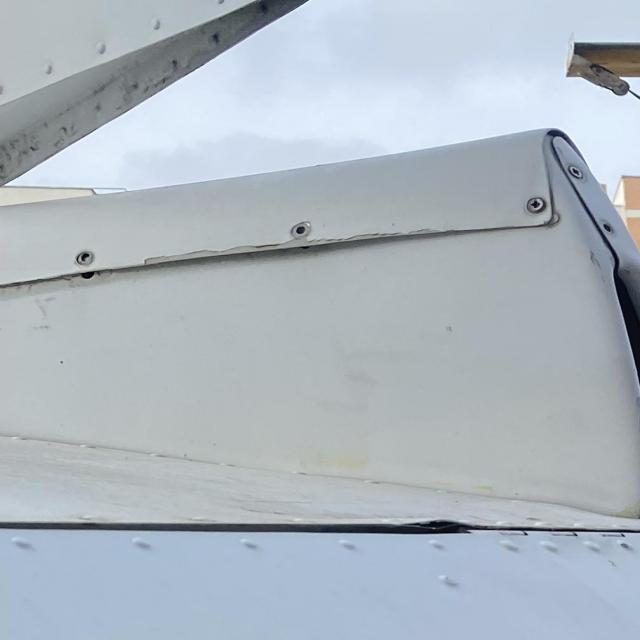Crack: (394, 516, 467, 531), (460, 519, 505, 531)
Missing-head: (288, 221, 312, 240), (597, 220, 618, 238), (74, 249, 95, 265)
Paint-off: (141, 242, 286, 264), (310, 229, 424, 246), (635, 396, 640, 410), (638, 415, 640, 427)
